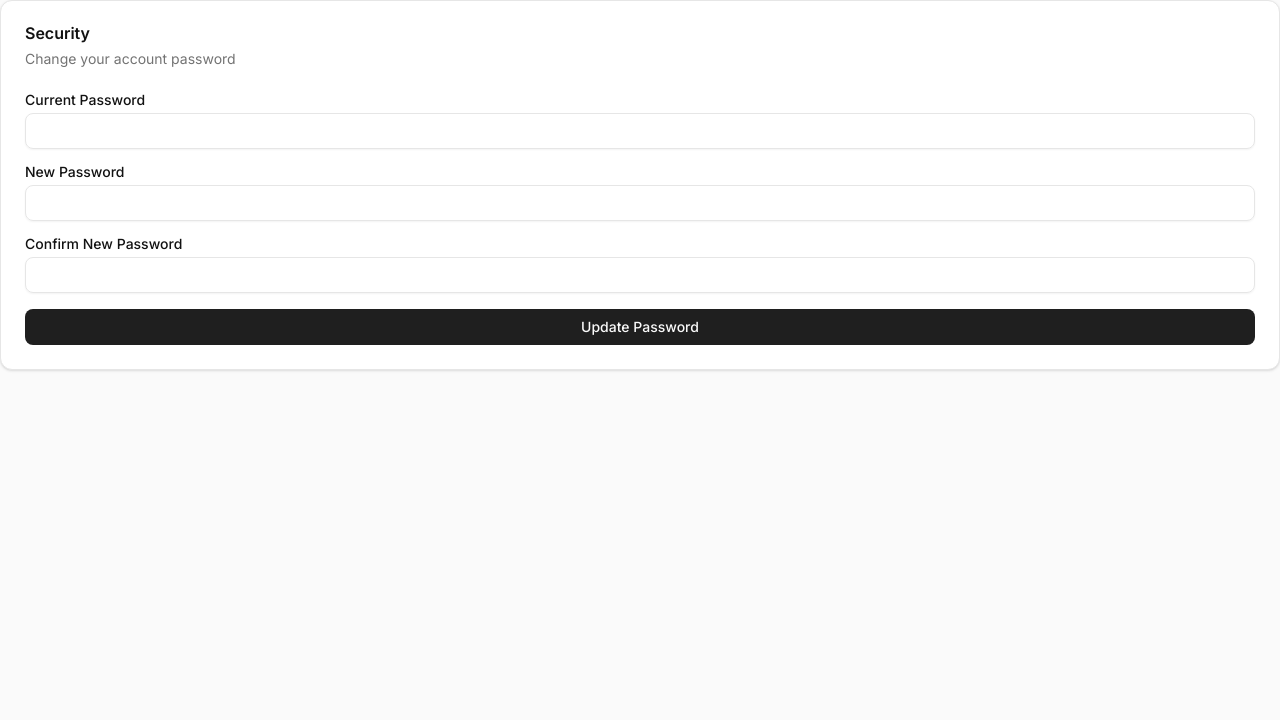
Test: retains passwords, validates the email code, retries with the nonce, and clears the challenge after success
Step 1. Type "legacy" into the password field labelled "Current Password" → (640, 131), box x1=25 y1=113 x2=1255 y2=149
Step 2. Type "newpass123" into the password field labelled "New Password" → (640, 203), box x1=25 y1=185 x2=1255 y2=221
Step 3. Type "newpass123" into the password field labelled "Confirm New Password" → (640, 275), box x1=25 y1=257 x2=1255 y2=293
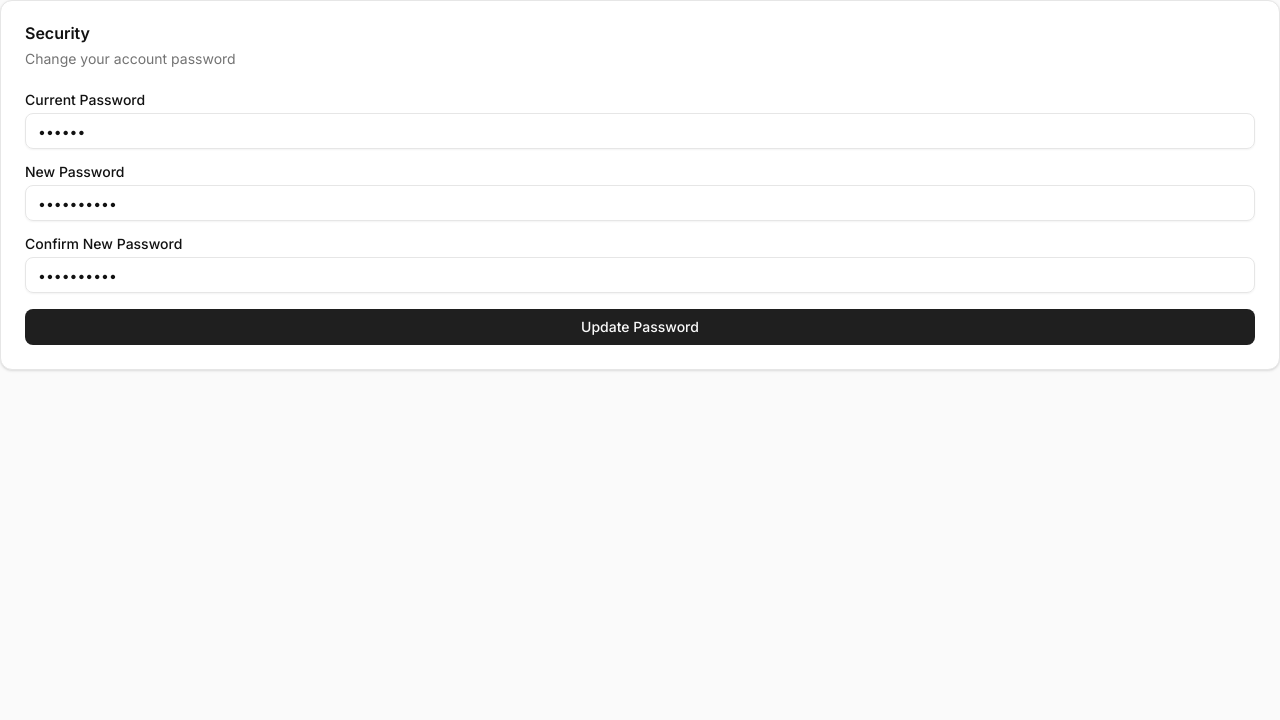
Step 4. Click the button "Update Password" → (640, 327), box x1=25 y1=309 x2=1255 y2=345
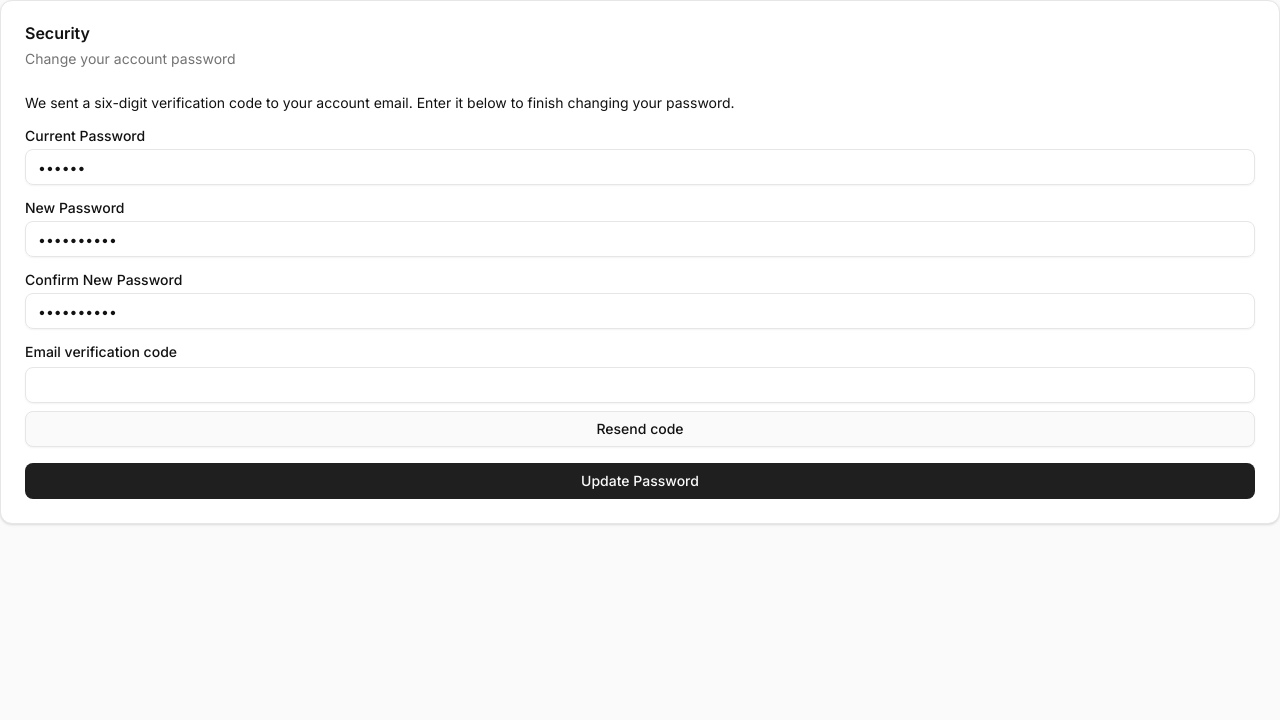
Result: the text "sent" is shown at x1=25 y1=94 x2=735 y2=111
Step 5. Type "12345" into the field labelled "Email verification code" → (640, 385), box x1=25 y1=367 x2=1255 y2=403
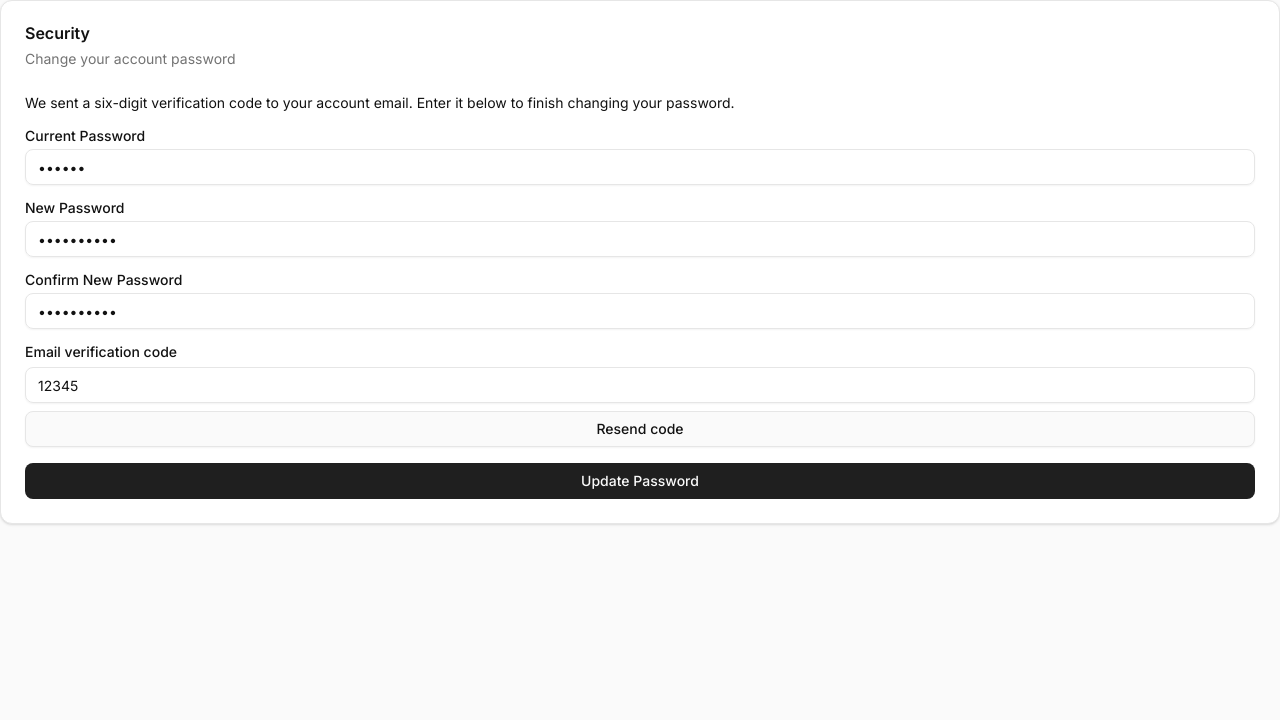
Step 6. Click the button "Update Password" → (640, 481), box x1=25 y1=463 x2=1255 y2=499
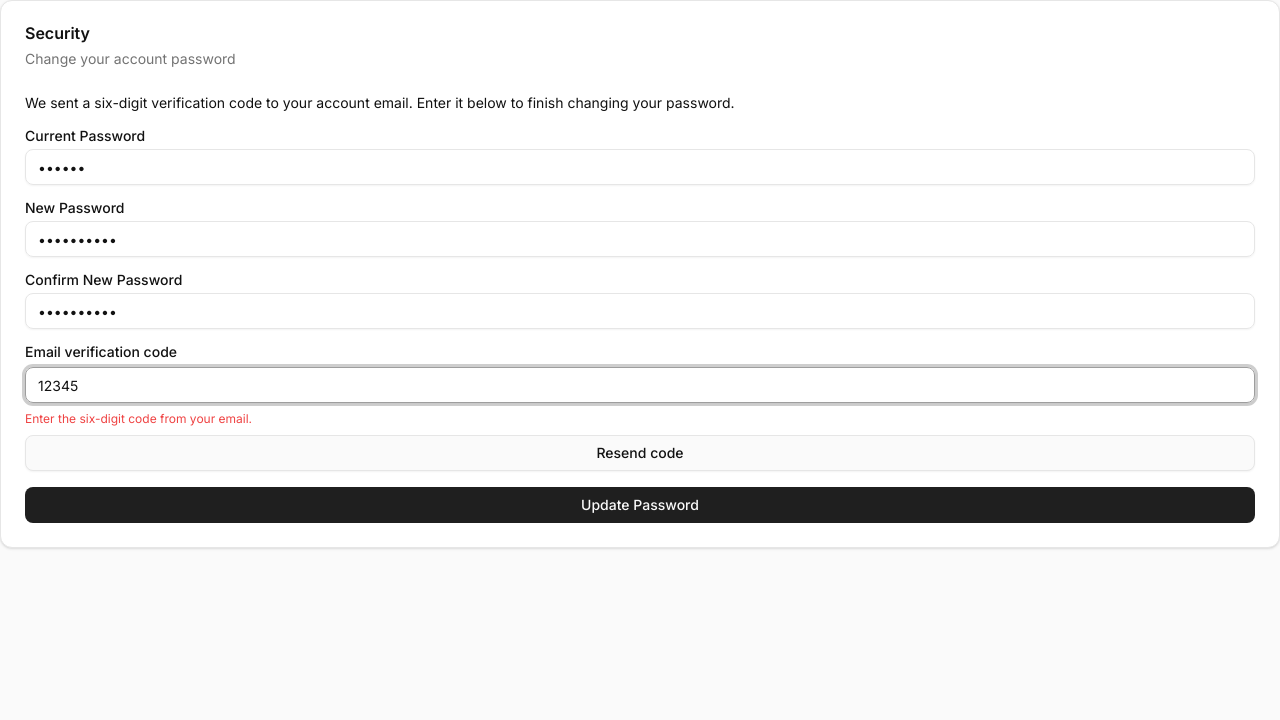
Result: the text "Enter the six-digit code from your email." is shown at x1=25 y1=411 x2=252 y2=426
Step 7. Replace the text in the field labelled "Email verification code" with "012345" → (640, 385), box x1=25 y1=367 x2=1255 y2=403
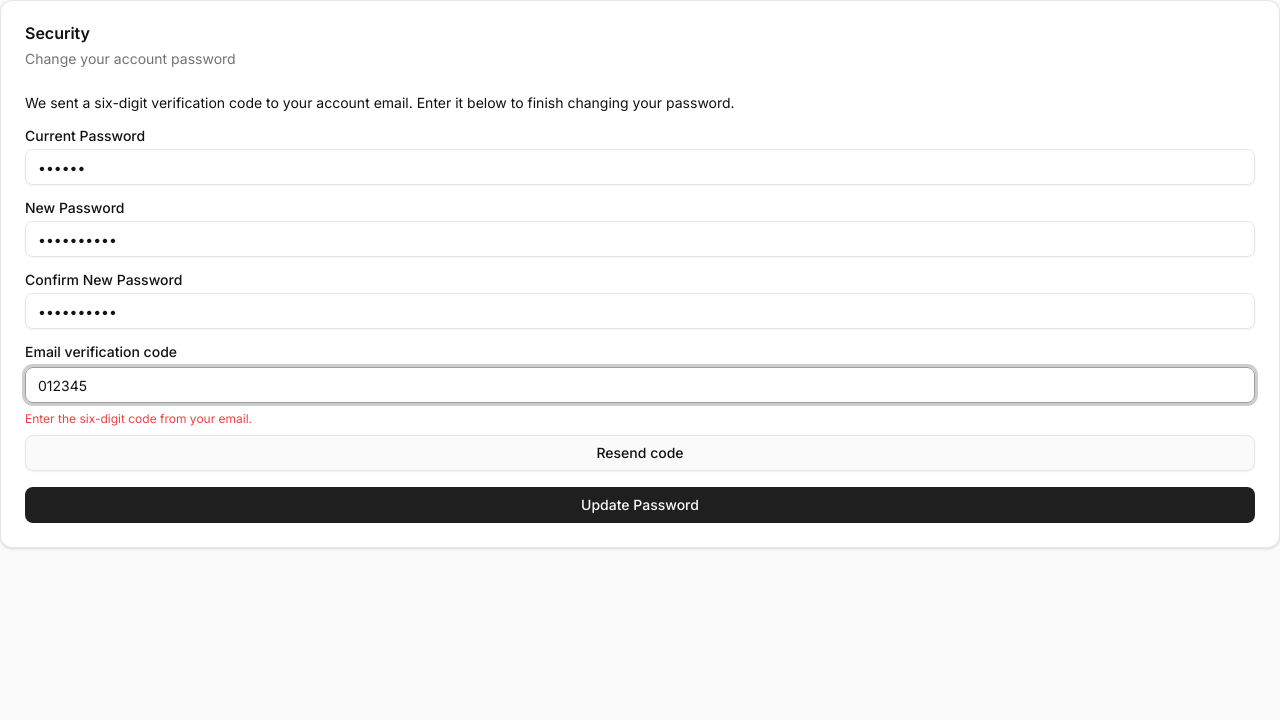
Step 8. Click the button "Update Password" → (640, 505), box x1=25 y1=487 x2=1255 y2=523
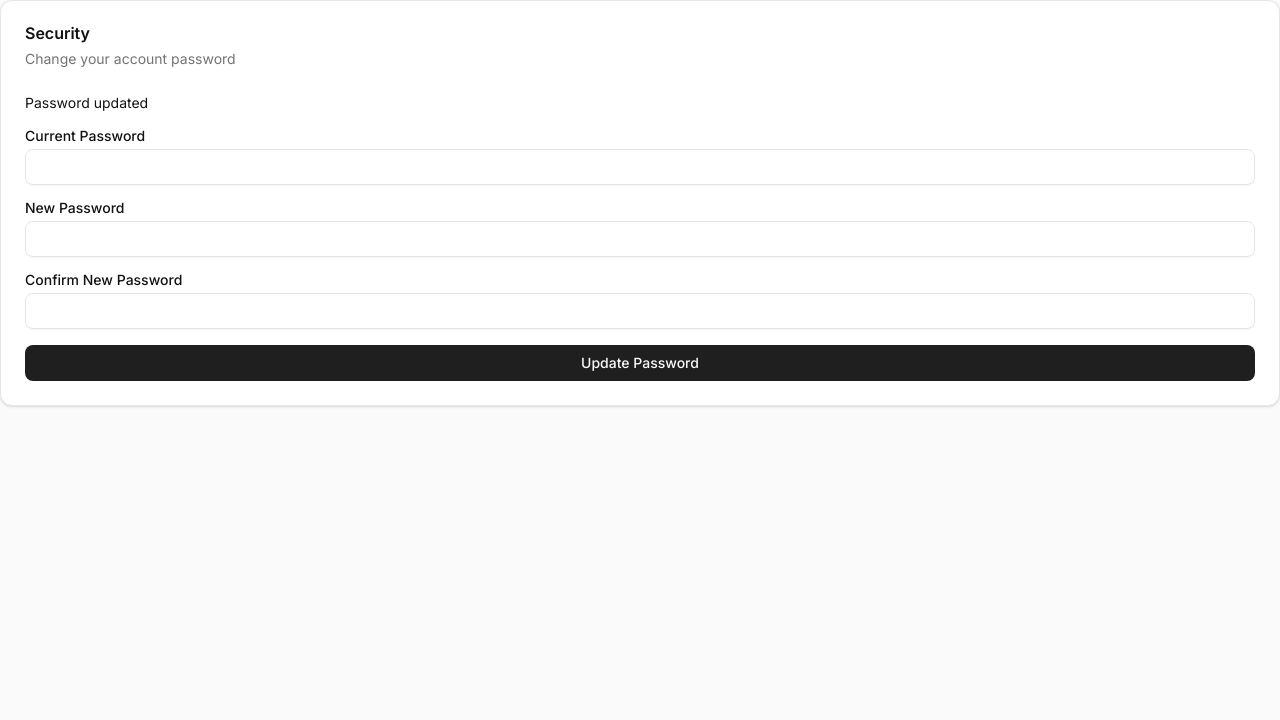
Result: the label labelled "Email verification code" is gone
Result: the password field labelled "New Password" is empty at x1=25 y1=221 x2=1255 y2=257
